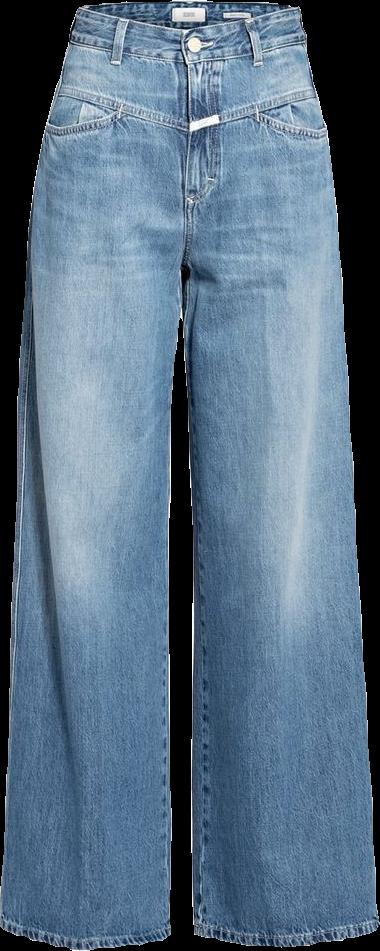Hemline: (0, 917, 172, 949), (191, 920, 379, 949)
Pantleg: (181, 0, 378, 946), (0, 3, 182, 947)
Waistline: (56, 78, 321, 132), (65, 29, 310, 69), (78, 0, 294, 34)
